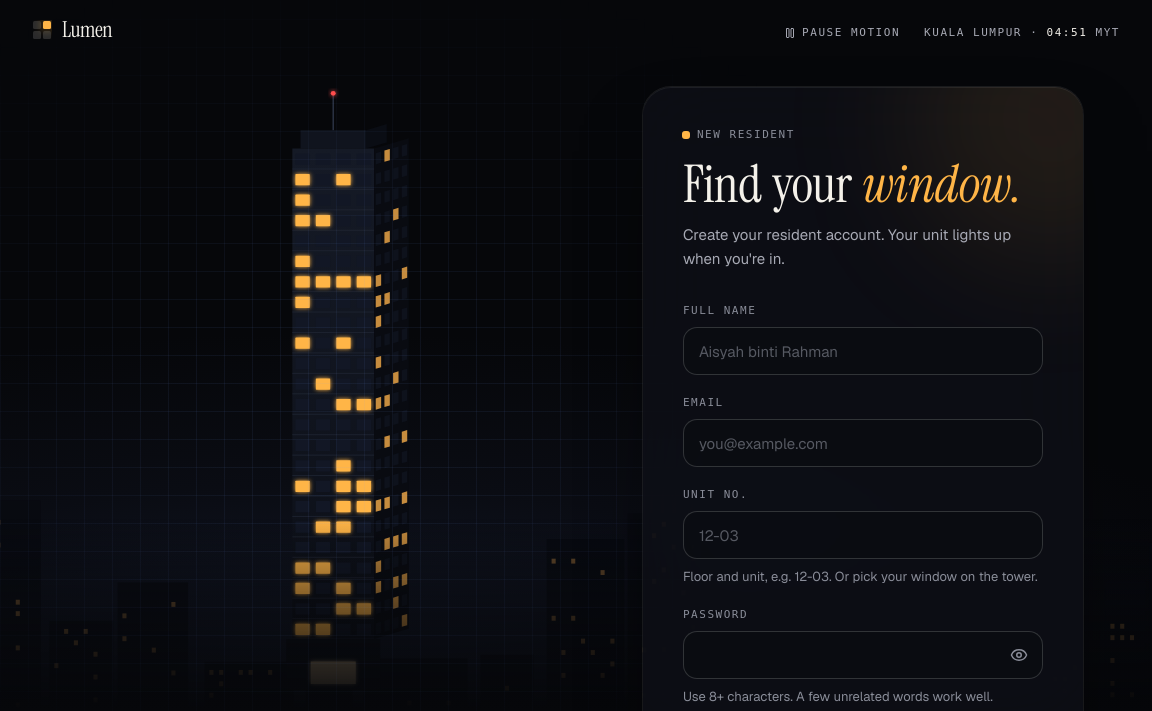
Scenario: Registration page › shows the live strength meter and breach result while typing
This screenshot has width=1152, height=711.
Type "password123" into the password field labelled "Password" at coordinates (842, 655), box [683, 631, 1001, 679]
(page scrolled)
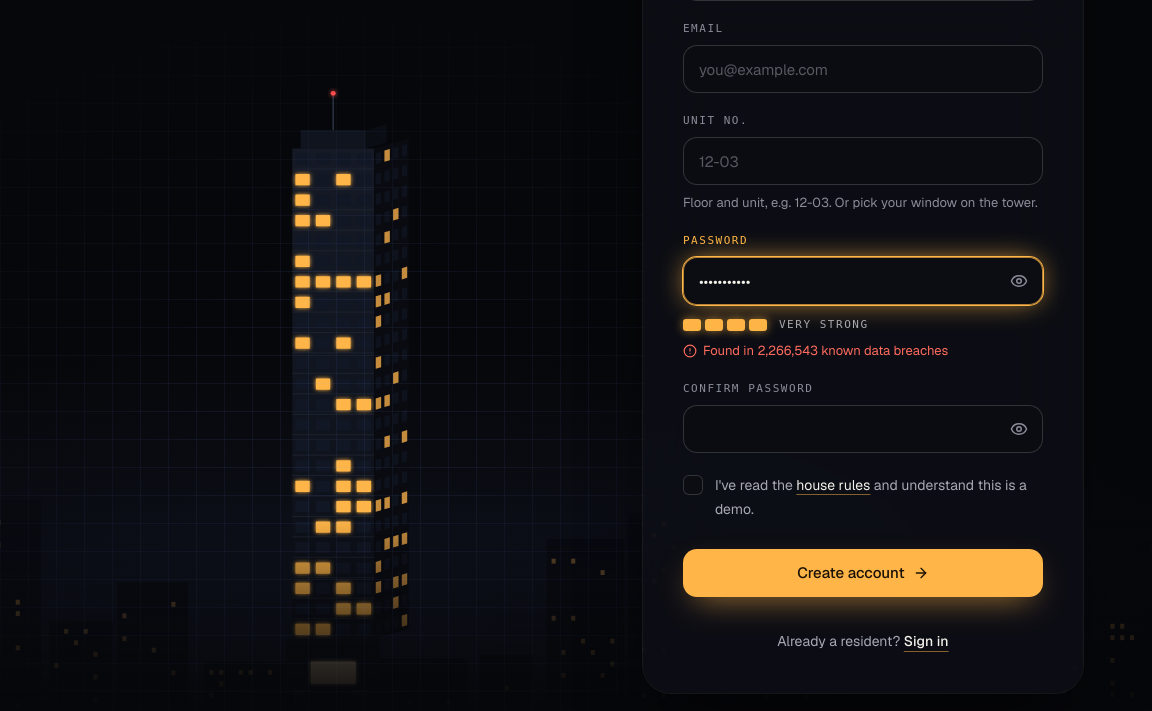
Expected: the text "Very strong" is shown, [779, 317, 869, 333]
Expected: the text "Found in 2,266,543 known data breaches" is shown, [683, 342, 948, 359]
